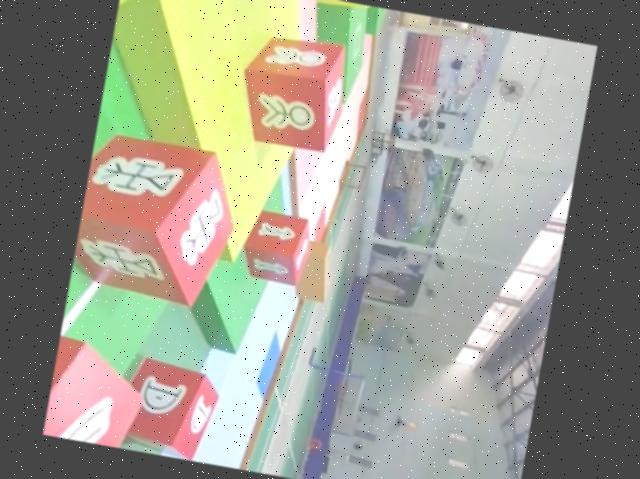R2 Real: (69, 125, 249, 310), (231, 24, 357, 156), (42, 329, 157, 451), (111, 348, 226, 463), (236, 204, 317, 288)
